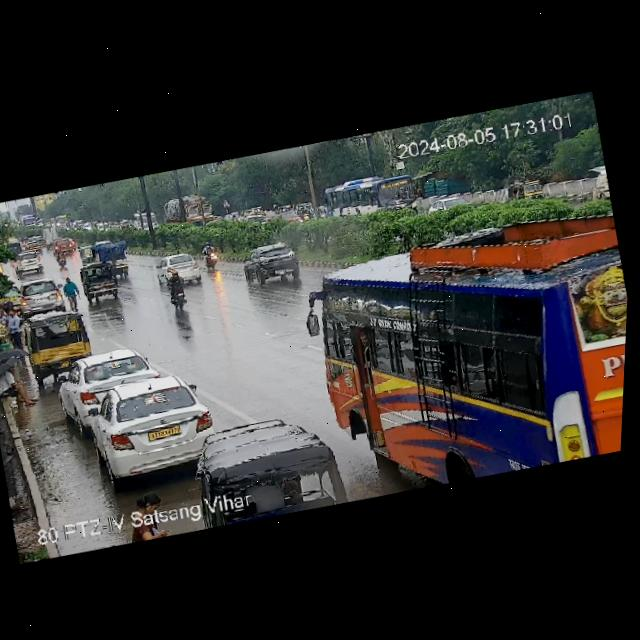bus: (291, 176, 632, 507), (319, 166, 420, 226), (52, 213, 74, 230), (17, 212, 39, 229)
car: (89, 368, 208, 475), (195, 408, 338, 495), (52, 342, 144, 423), (16, 311, 96, 389), (237, 239, 305, 293), (12, 275, 69, 318), (152, 248, 207, 285), (79, 261, 120, 301), (500, 175, 551, 206), (12, 248, 44, 278), (51, 233, 75, 257), (21, 234, 46, 257), (76, 244, 96, 270)
motorcycle: (163, 266, 190, 311), (425, 191, 473, 213), (198, 237, 222, 271), (54, 244, 68, 269)
person: (0, 352, 38, 412), (4, 306, 25, 348), (59, 272, 81, 307)
truck: (162, 191, 215, 231), (90, 236, 136, 280)
